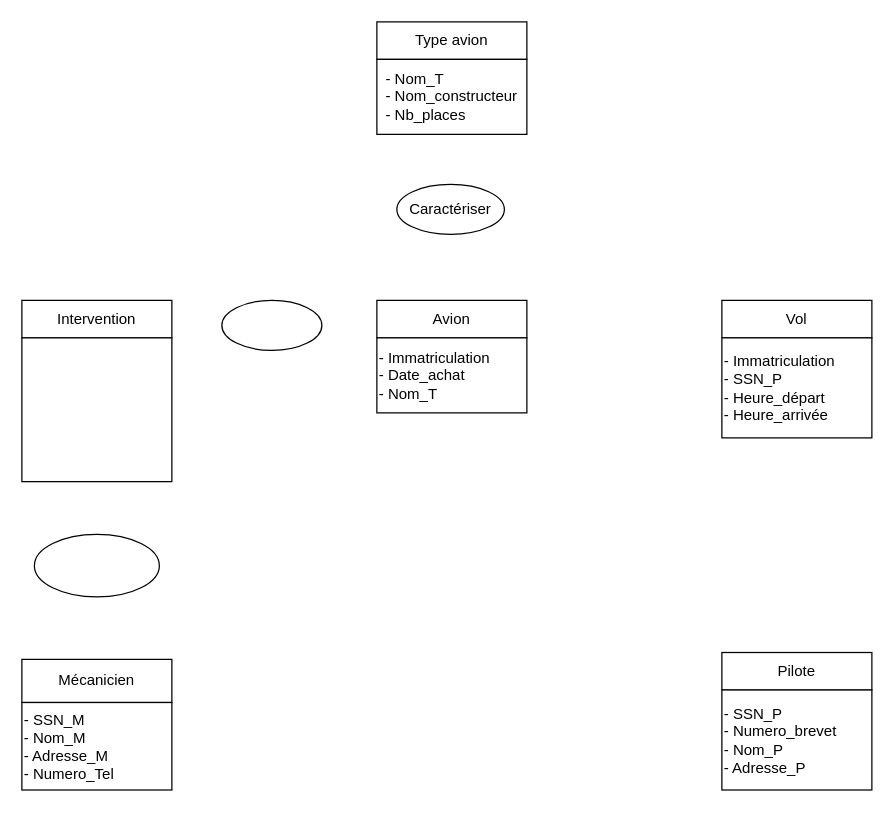
The diagram is 894 pixels wide and 813 high, and some of its shapes have lost their labels. The shapes that lost their labels are listed below. From the top down, each one's box as (x1, y1, x2, y2) in pixels, then its label:
(21, 337, 172, 482): - Num_int - Immatriculation - Objet - Date - SSN_M - Heure_debut - Heure_fin
(33, 533, 159, 597): Intervient
